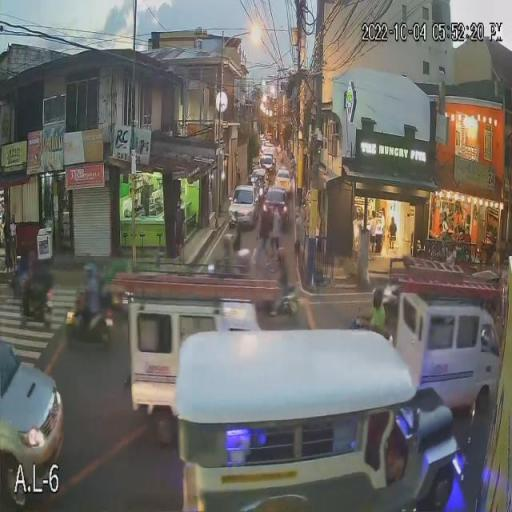helmet: (371, 287, 383, 308), (83, 263, 97, 281), (221, 233, 232, 249)
motorcycle: (64, 299, 114, 345)
rider: (81, 282, 98, 330), (370, 310, 386, 332), (222, 250, 232, 272)
